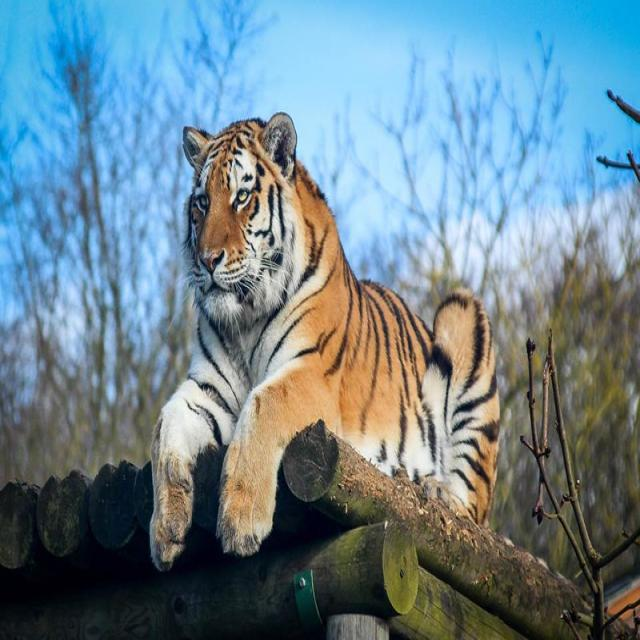Tiger: (150, 110, 499, 569)
